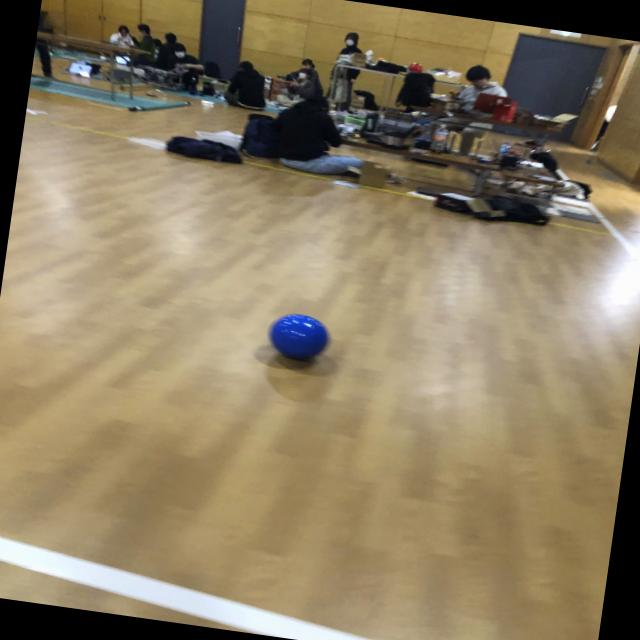blue_ball: (262, 309, 336, 367)
